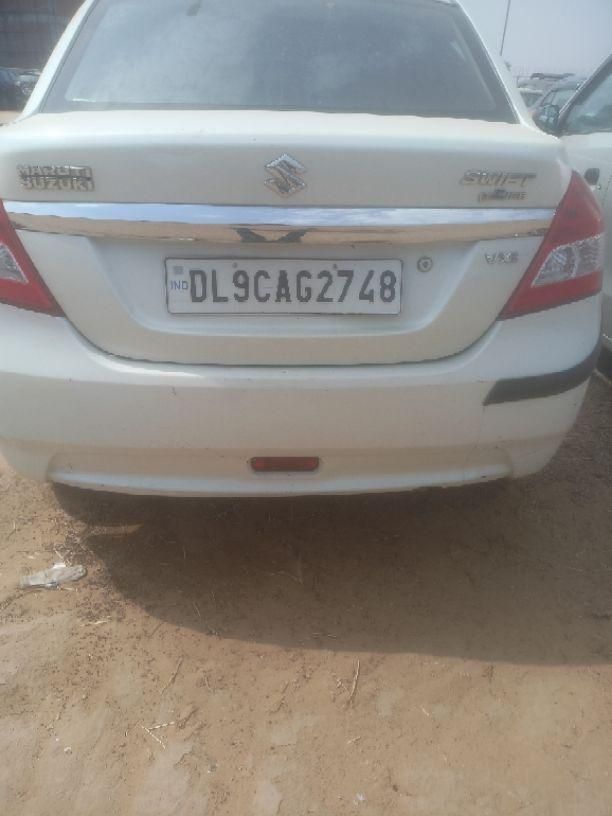license_plate: (163, 255, 403, 316)
